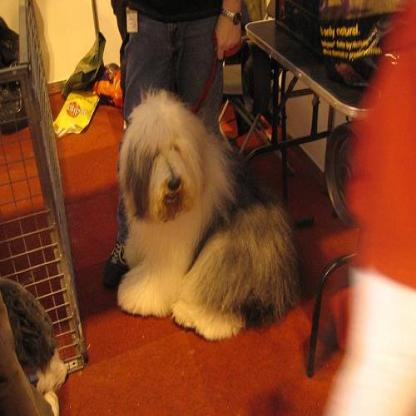Old_English_sheepdog: (116, 89, 304, 339)
